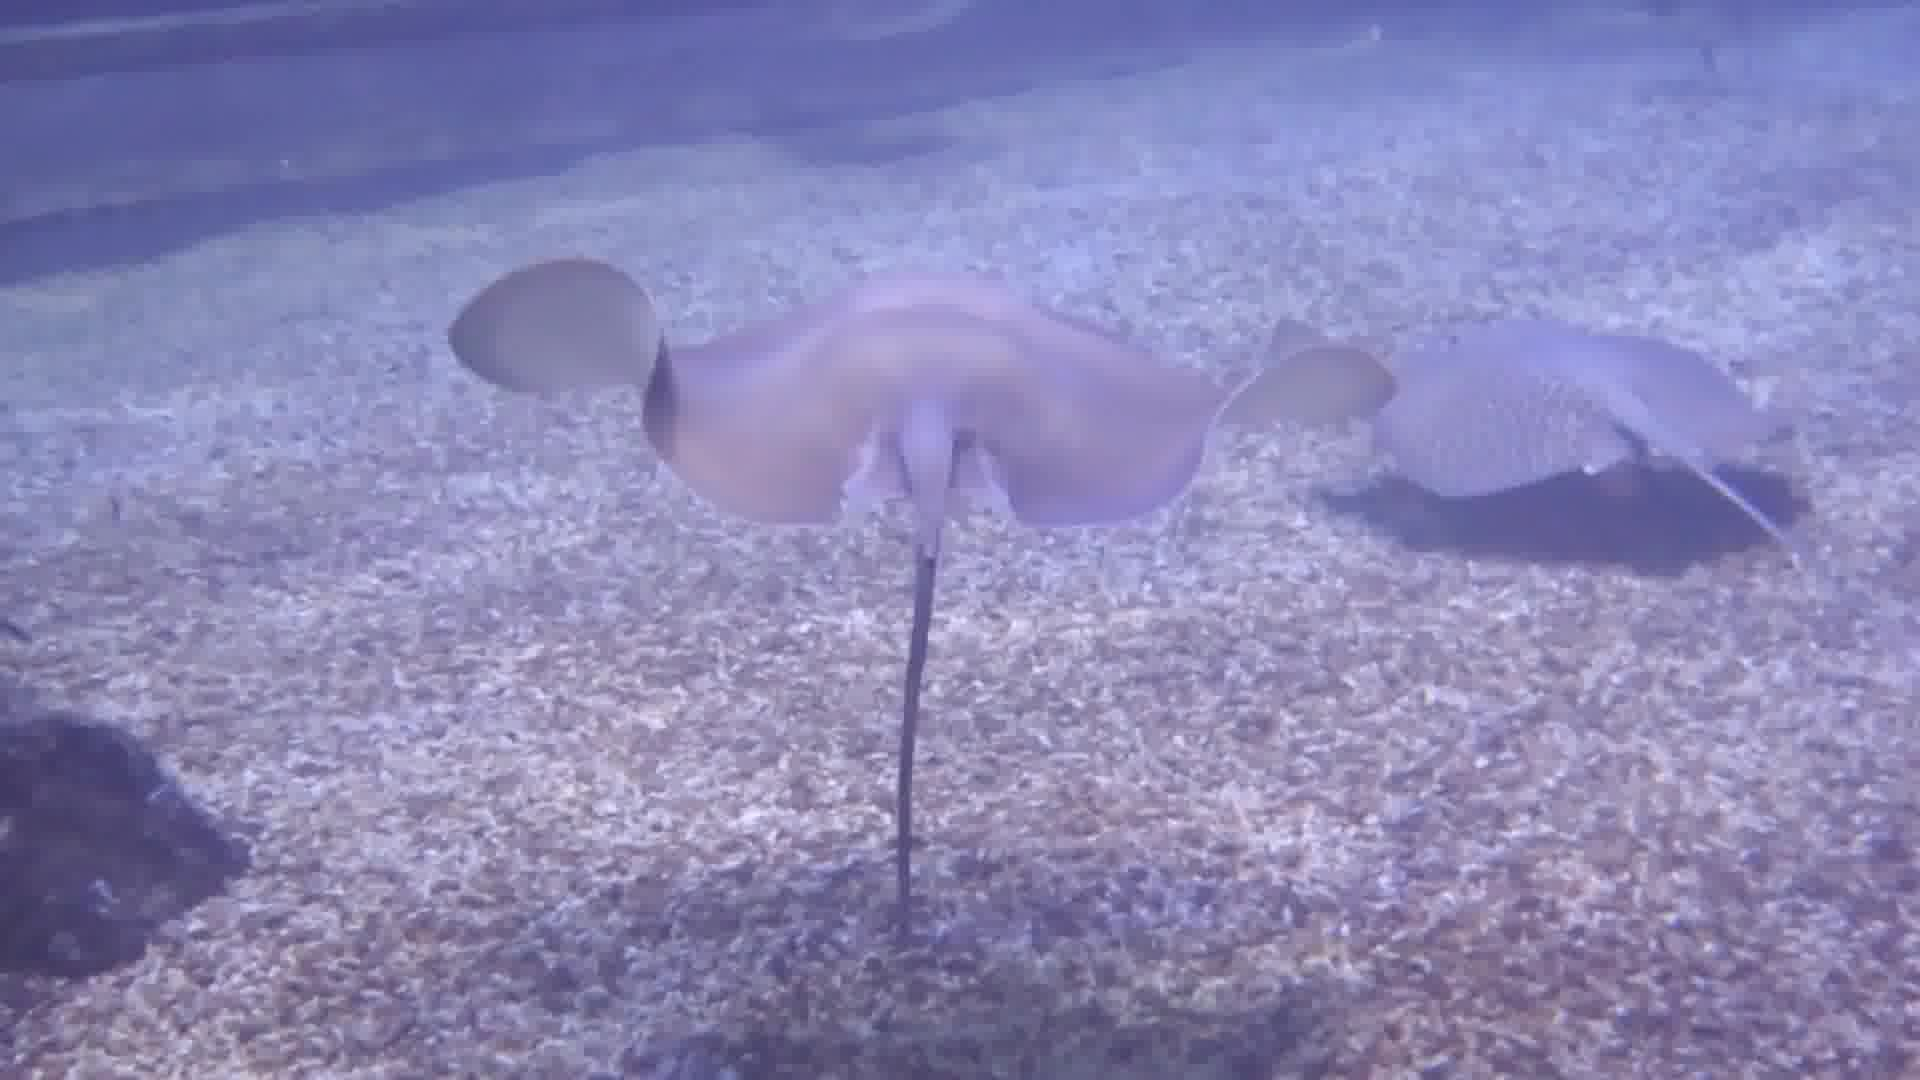Dasyatis akajei: (446, 113, 1394, 943)
